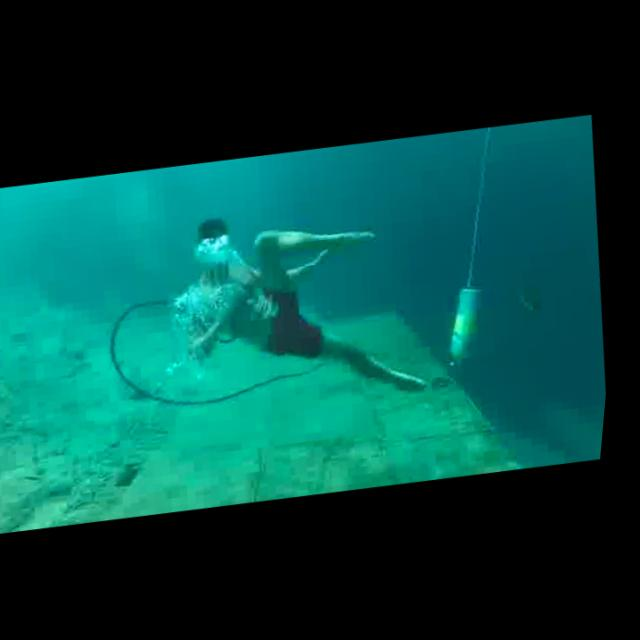human: (157, 178, 455, 431)
